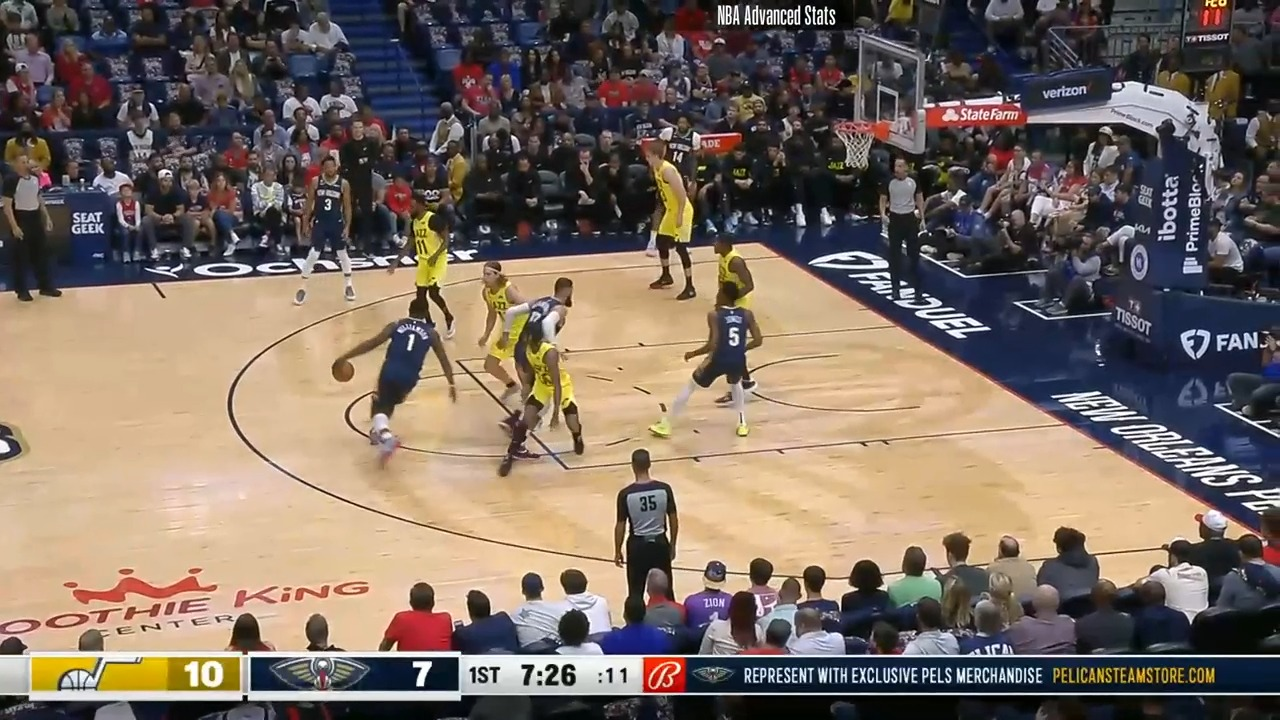net: (833, 116, 892, 173)
player: (335, 297, 462, 469), (652, 279, 763, 444), (494, 321, 586, 478), (497, 273, 580, 430), (292, 156, 355, 306), (472, 259, 533, 410), (400, 193, 461, 339), (648, 146, 705, 302), (644, 113, 705, 254), (708, 233, 760, 340)
referee: (610, 452, 681, 613), (1, 155, 58, 309), (872, 159, 923, 306)
